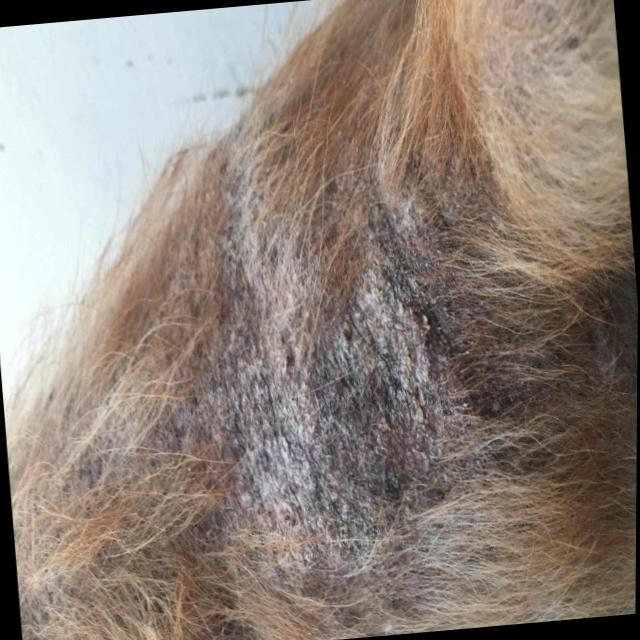demodicosis: (150, 140, 481, 579)
